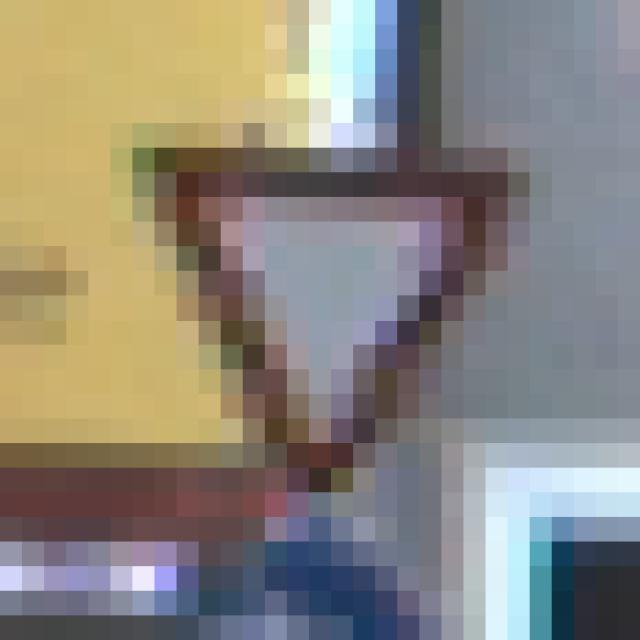Give Way: (111, 124, 531, 518)
